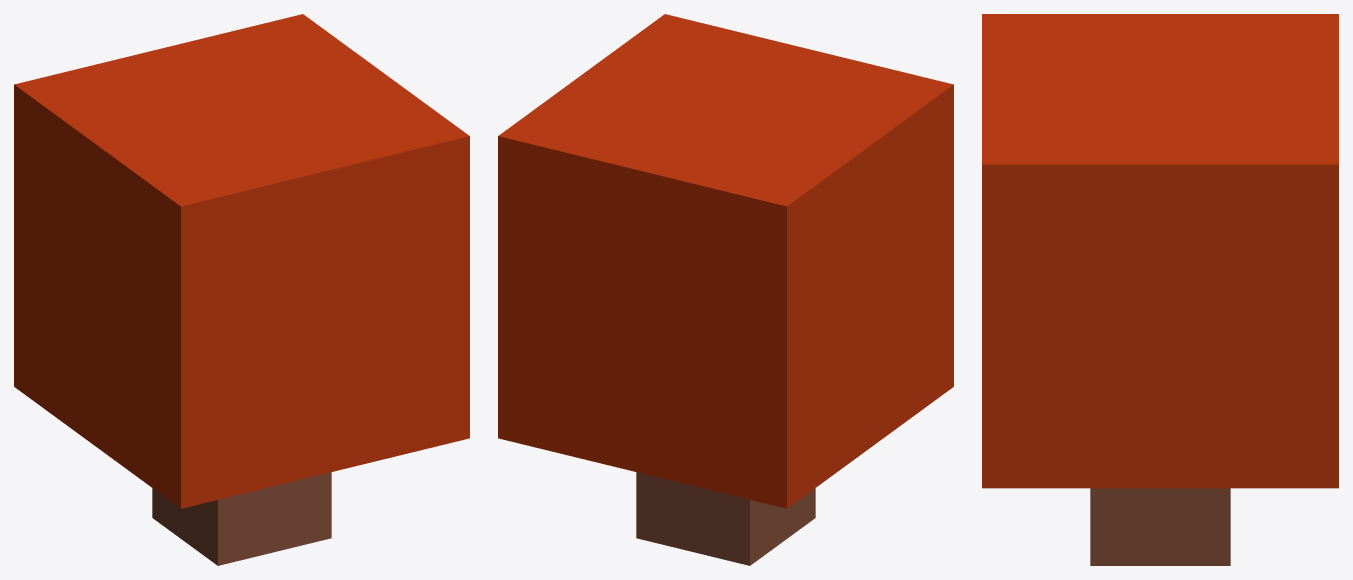
File: Bush_8_summer_red_mat.fbx
3 views of the same model, side by side, from view 1: azimuth 30°, elevation 25°; view 2: azimuth 150°, elevation 25°; view 3: azimuth 270°, elevation 25° (orthographic). The views are drawn at different scales.
Visible parts, largest first — view 1: Bush_8_summer_red_mat; view 2: Bush_8_summer_red_mat; view 3: Bush_8_summer_red_mat.
Part boxes in pixels (bbox=[...]): Bush_8_summer_red_mat: bbox=[14, 14, 469, 565]; Bush_8_summer_red_mat: bbox=[498, 14, 953, 565]; Bush_8_summer_red_mat: bbox=[982, 14, 1338, 565].
Size of the model in its own units: 38.7 by 53.49 by 38.7.
